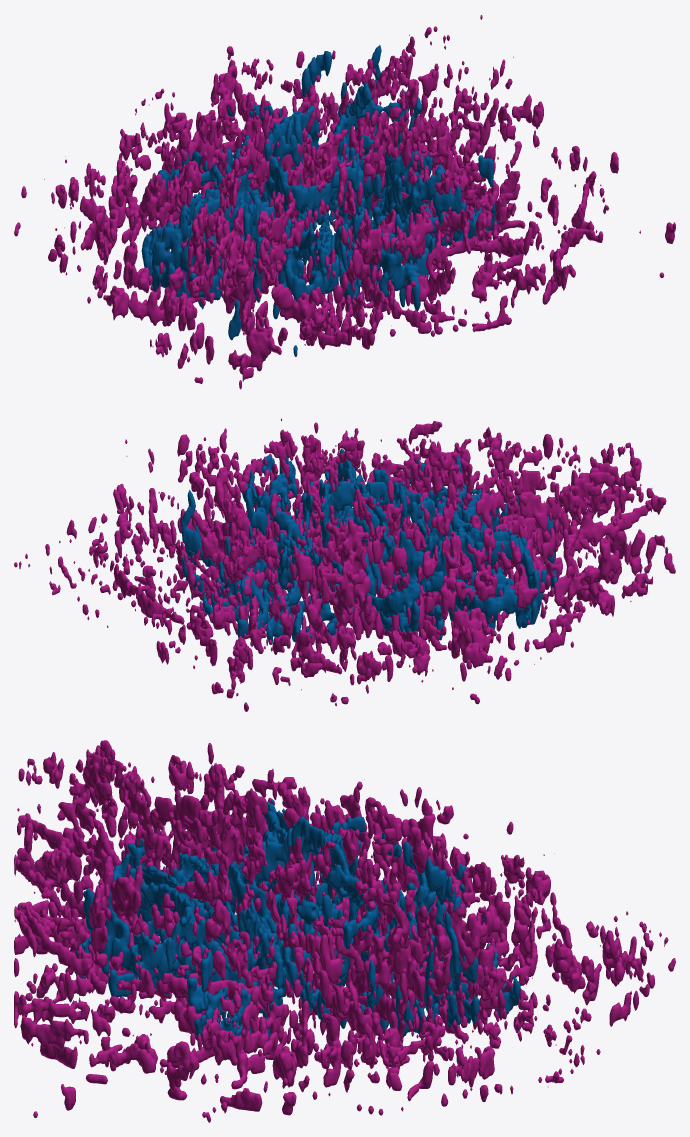
3 views of the same model, one above another, from view 1: azimuth 30°, elevation 25°; view 2: azimuth 150°, elevation 25°; view 3: azimuth 270°, elevation 25° (orthographic). The views are drawn at different scales.
Parts seen in each view (by area): view 1: 100_24HR_tmre, 100_24HR_mito; view 2: 100_24HR_tmre, 100_24HR_mito; view 3: 100_24HR_tmre, 100_24HR_mito.
Part boxes in pixels (x1,y1,x2,y2): 100_24HR_tmre: [14, 15, 675, 389]; 100_24HR_mito: [141, 44, 498, 356]; 100_24HR_tmre: [14, 418, 675, 711]; 100_24HR_mito: [180, 449, 581, 644]; 100_24HR_tmre: [14, 740, 675, 1122]; 100_24HR_mito: [57, 799, 520, 1047].
Size of the model in its own units: 38.28 by 12.03 by 38.65.
